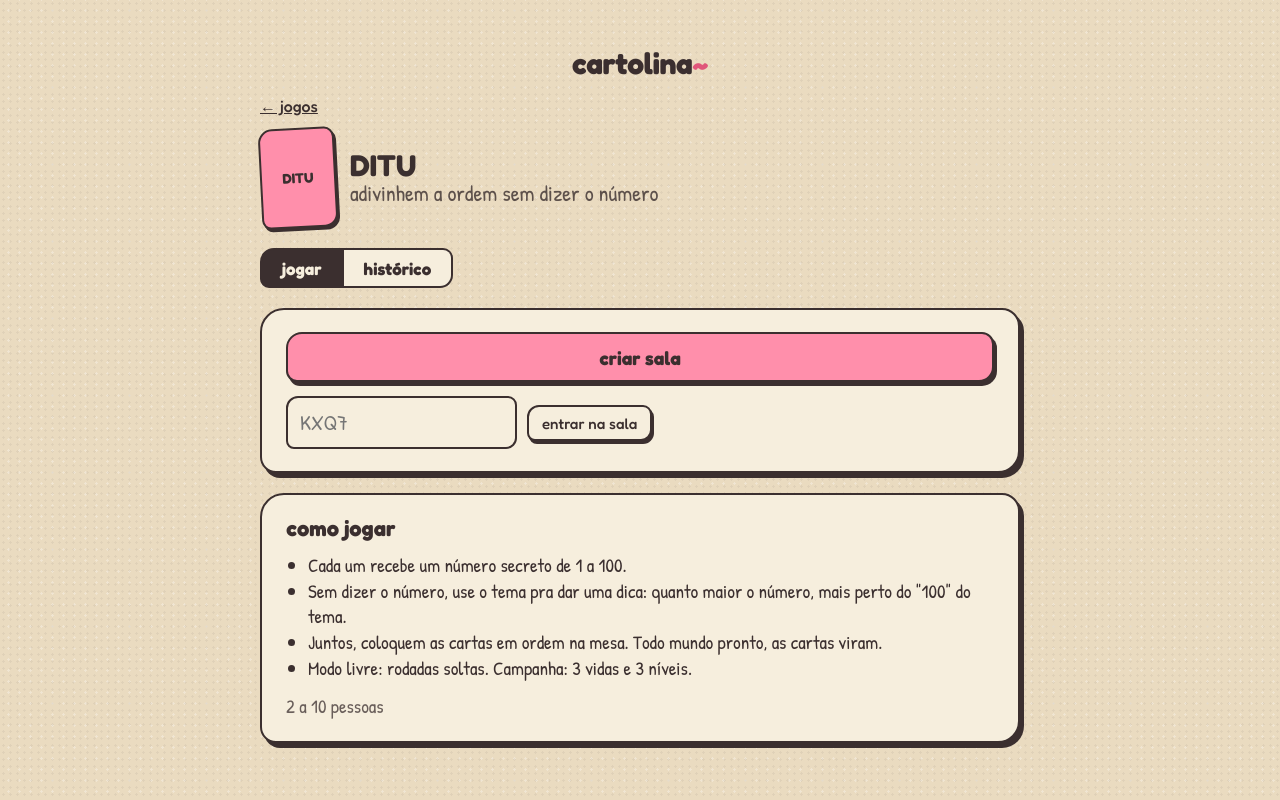
Test: GamePage › aba jogar › código com tamanho errado mostra erro e não sai da página
Type "ab" into the field named "código da sala". click: (402, 422)
box: [286,396,517,449]
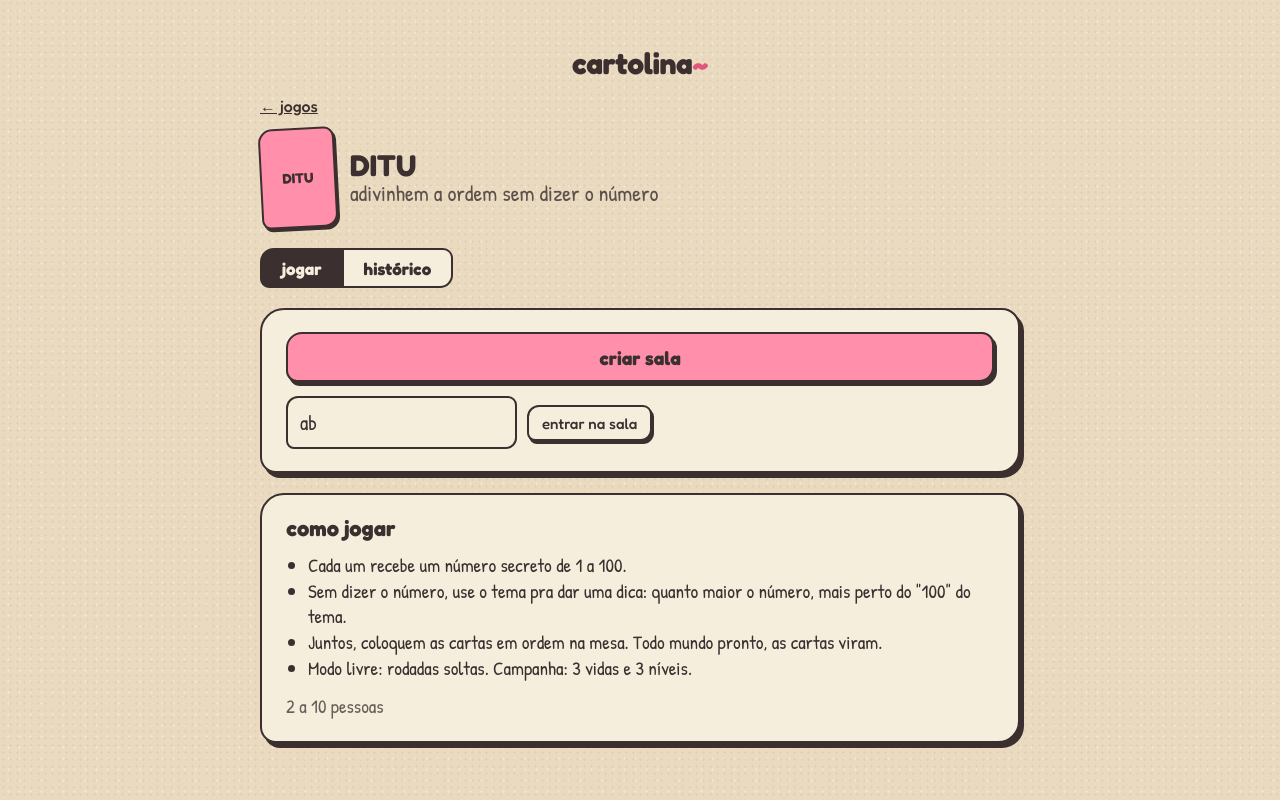
Click the button "entrar na sala". click: (590, 422)
box: [527,404,652,440]
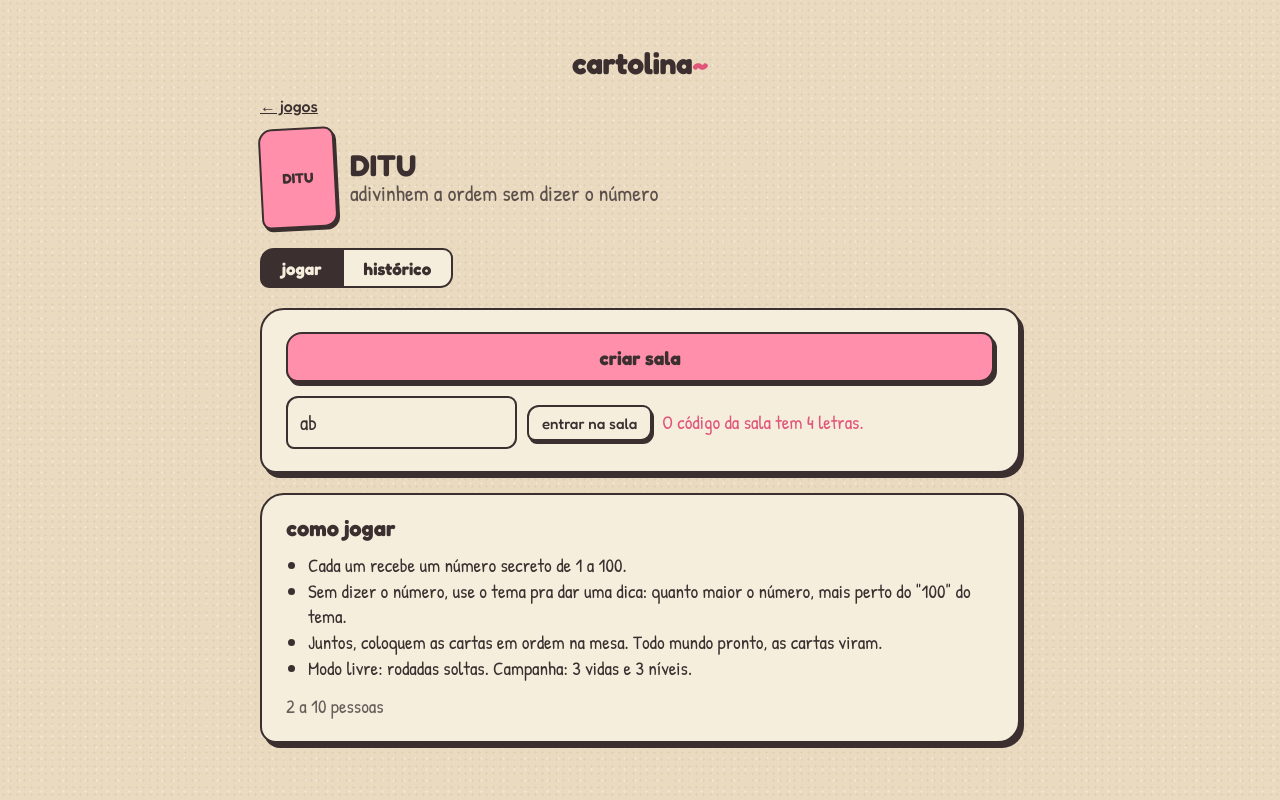
Expected: the text "O código da sala tem 4 letras." is shown, [662,411,864,434]
